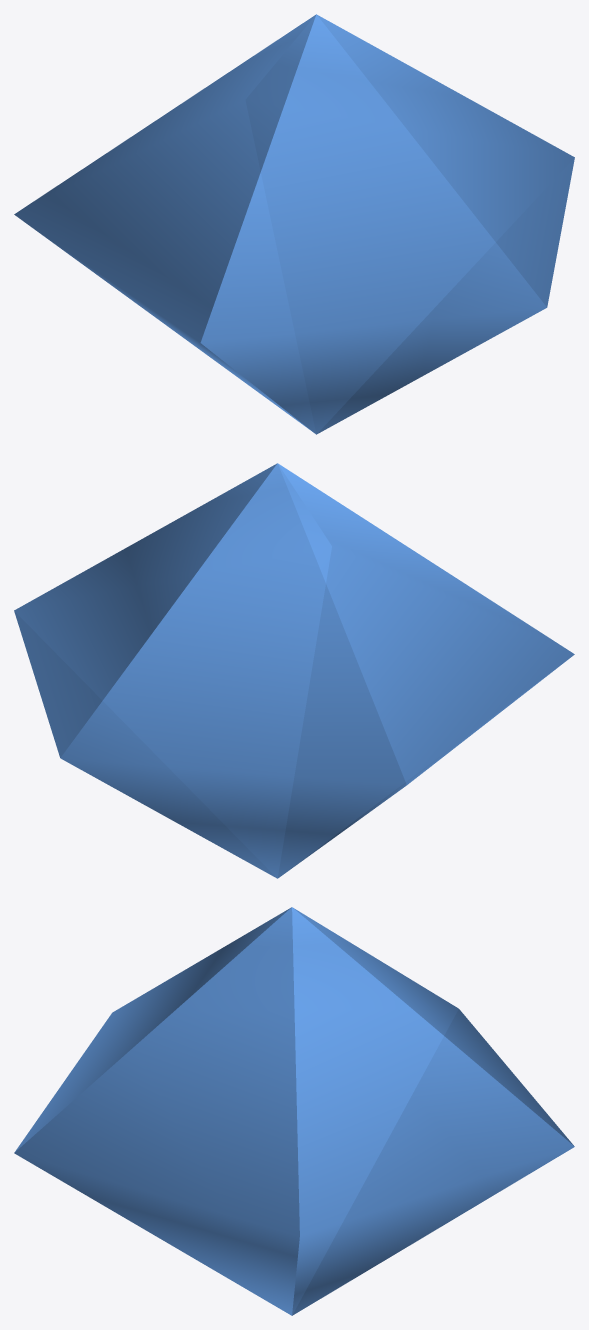
File: gem2a.fbx
3 renders of one model, top to bottom at view 1: azimuth 30°, elevation 25°; view 2: azimuth 150°, elevation 25°; view 3: azimuth 270°, elevation 25°, orthographic. The views are drawn at different scales.
Visible parts, largest first — view 1: Crystals_s_01; view 2: Crystals_s_01; view 3: Crystals_s_01.
Part boxes in pixels (x1,y1,x2,y2): Crystals_s_01: [14, 14, 574, 434]; Crystals_s_01: [14, 463, 574, 878]; Crystals_s_01: [14, 907, 574, 1315].
Size of the model in its own units: 6 by 5.03 by 6.25.
